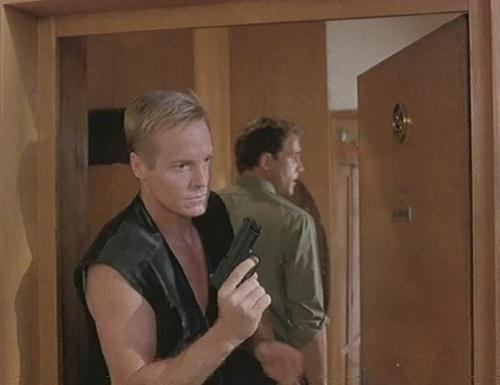Gun: (211, 214, 264, 295)
